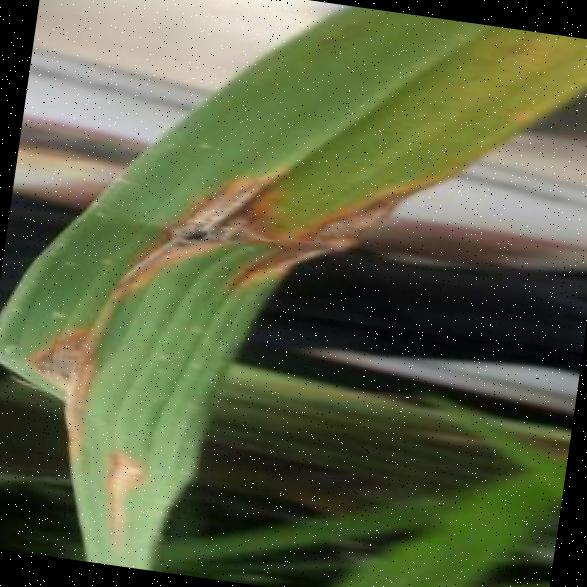Leaf_smut: (230, 142, 440, 298), (116, 131, 289, 298), (0, 277, 131, 432), (64, 421, 156, 536)
